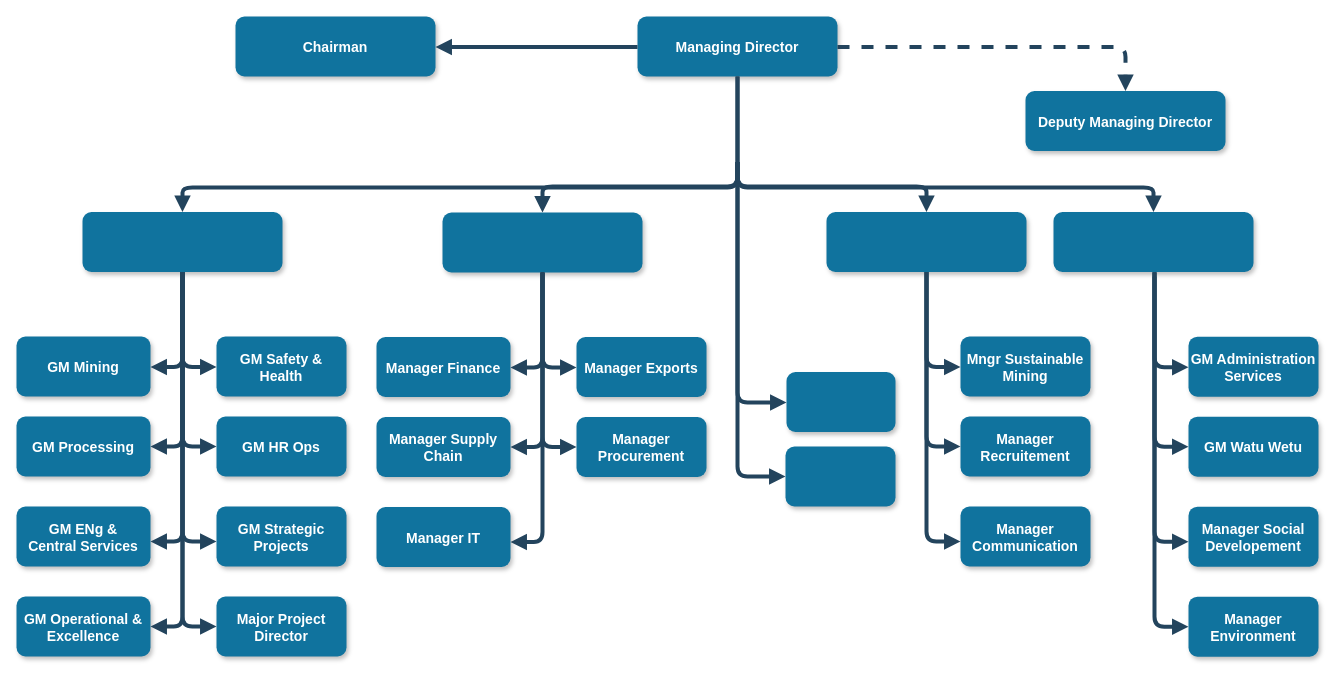
This 1335x673 diagram has some shape labels left out. The centre of each missing label's shape, as x and y in pixels:
Administration Director: pixel 1154 243
CFO: pixel 543 243
Commercial Director: pixel 927 243
COO: pixel 183 243
GM Security: pixel 841 403
Legal Counsel: pixel 841 477
